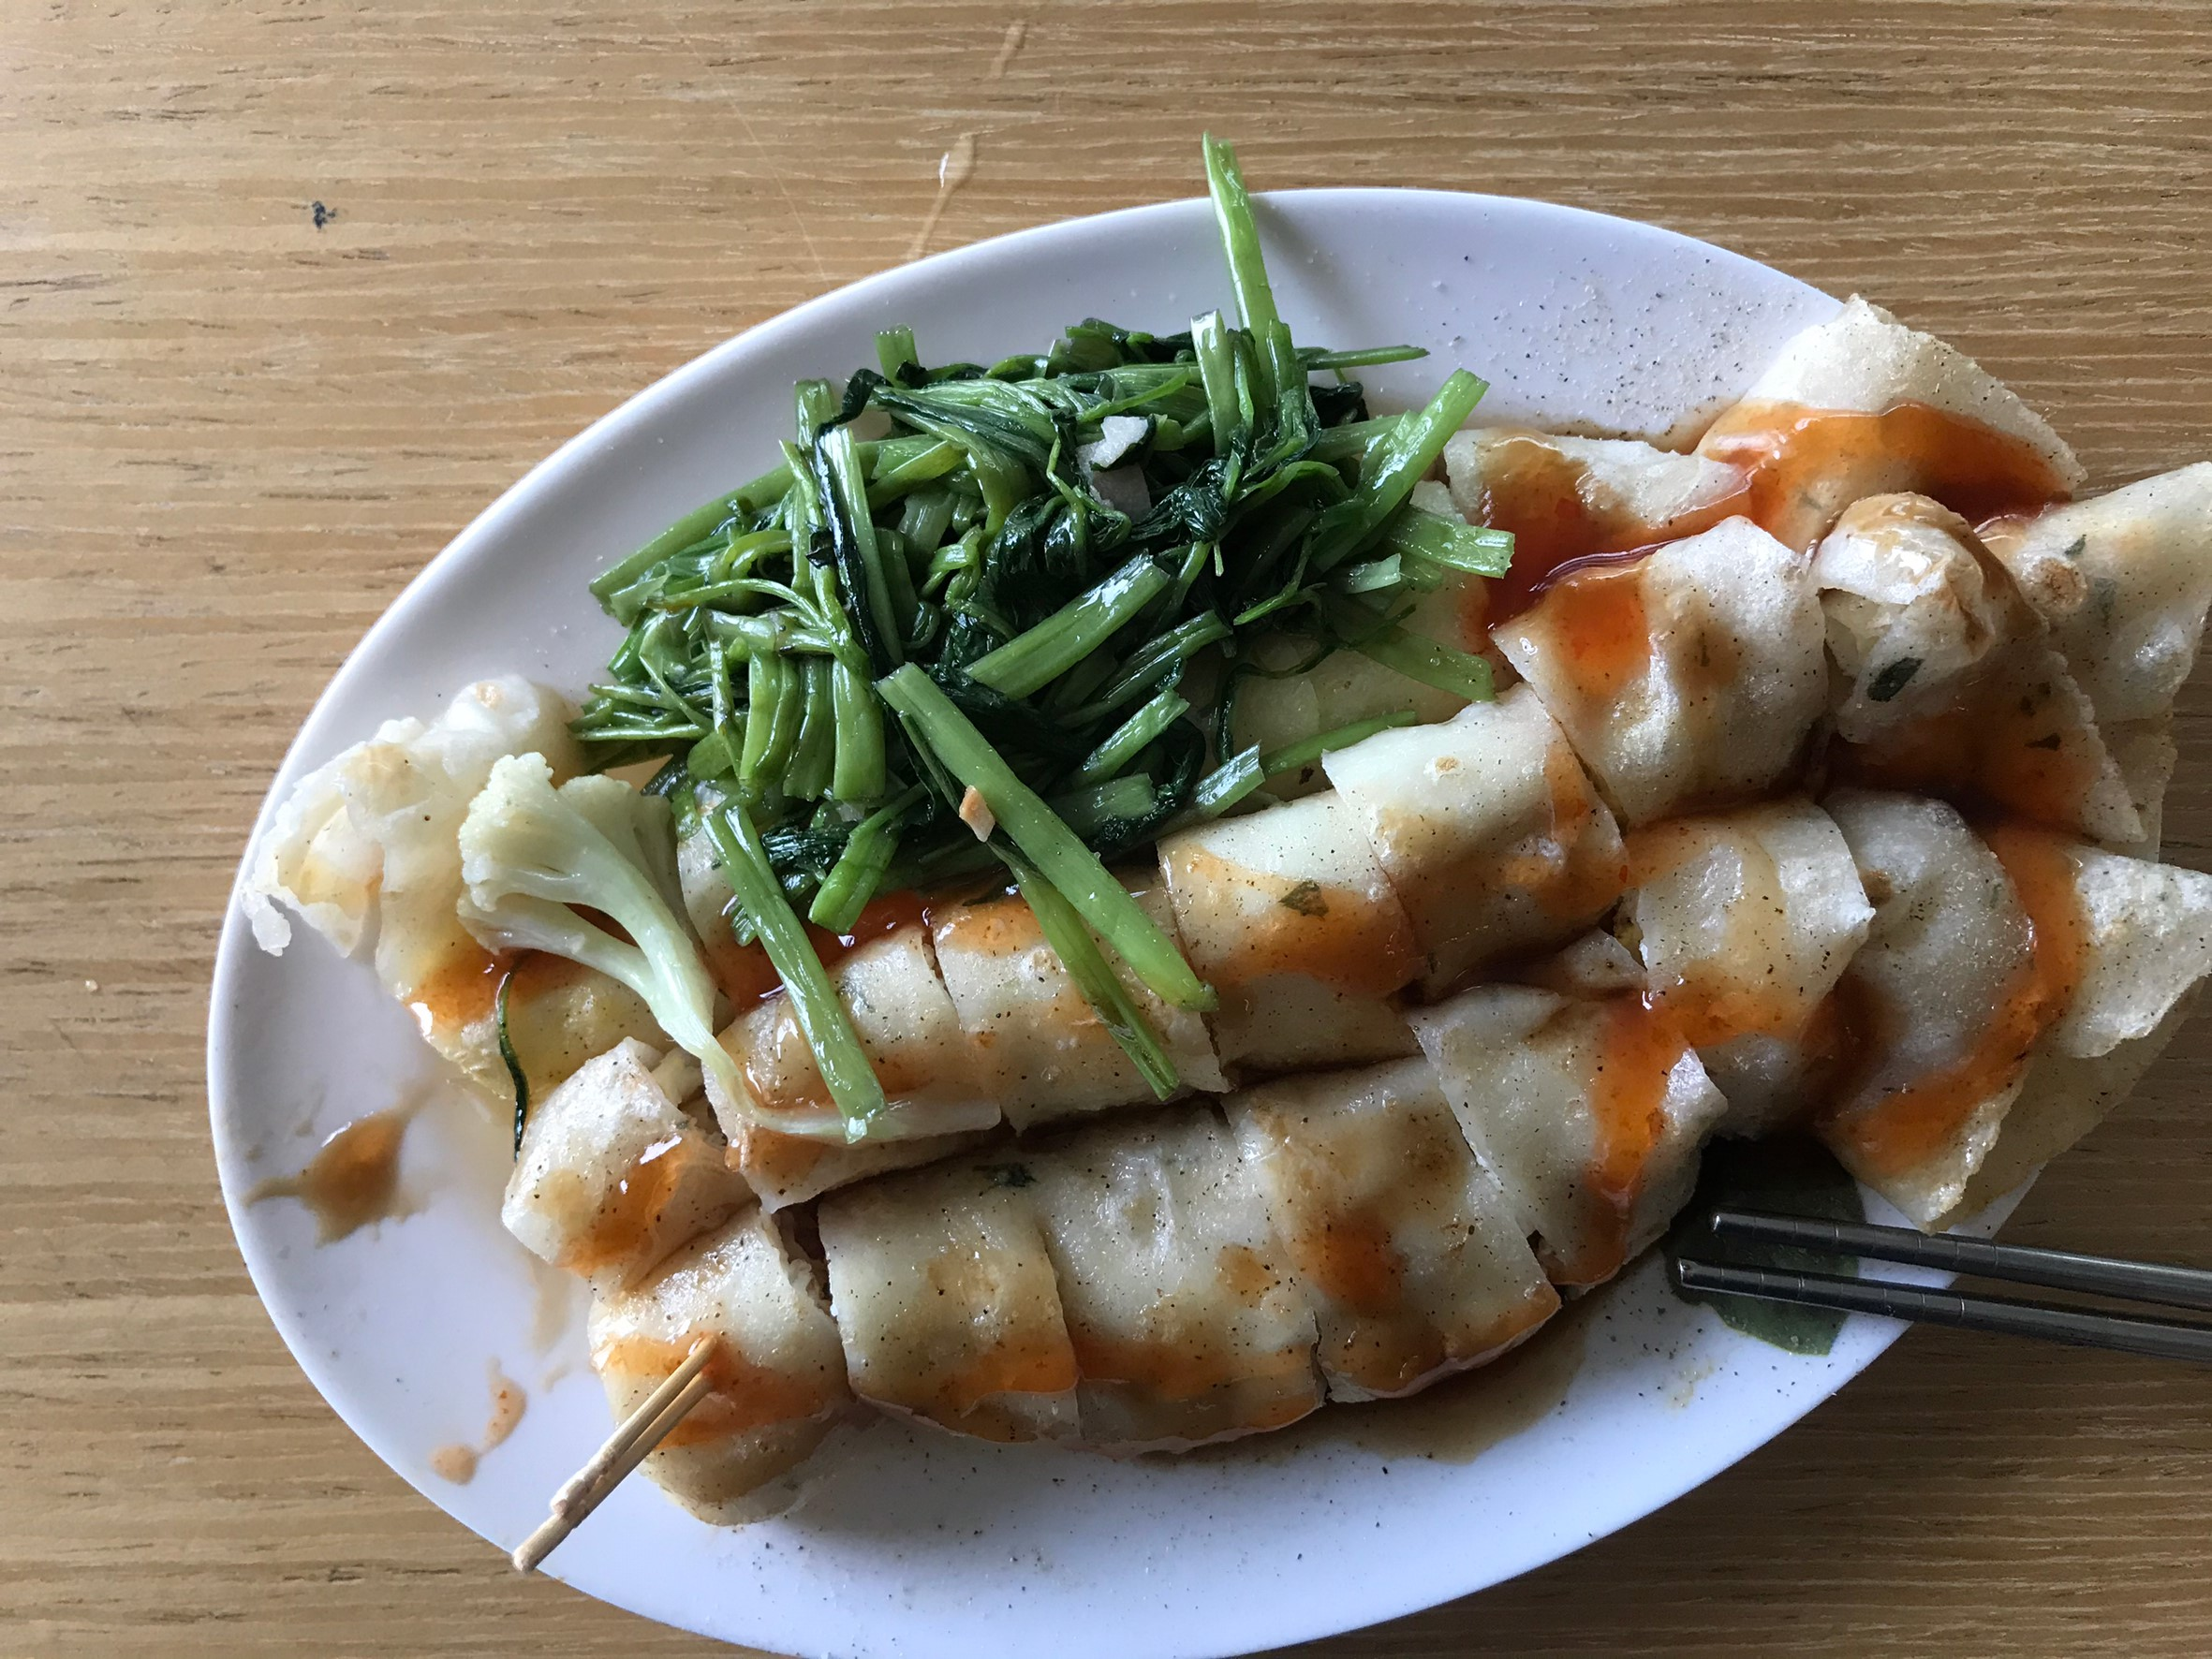water_spinach: (673, 321, 1393, 824)
